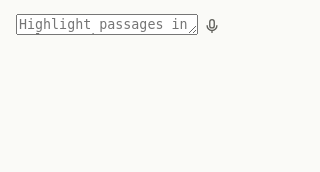
Scenario: an unfinished phrase is kept when listening ends
The width and height of the screenshot is (320, 172).
Click the button named "Dictate": x=212, y=26 [198,12,226,40]
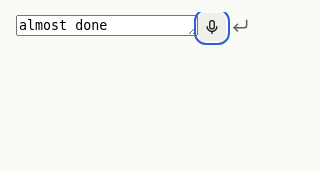
Result: the text box named "Message" holds "almost done" at [16,15,198,36]
